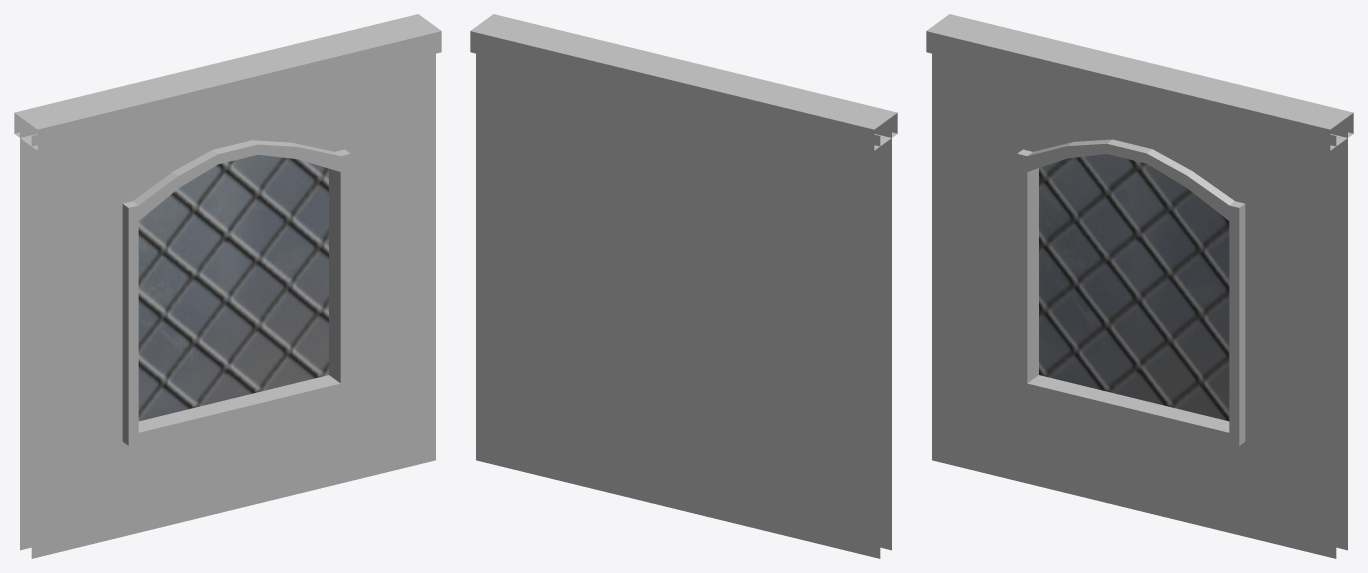
File: Wall_2_2_Up.fbx
The picture shows the model from 3 angles, left to right: view 1: azimuth 30°, elevation 25°; view 2: azimuth 150°, elevation 25°; view 3: azimuth 330°, elevation 25°; orthographic projection.
Parts seen in each view (by area): view 1: polySurface9836; view 2: polySurface9836; view 3: polySurface9836.
Boxes of the visible parts, <box> form: polySurface9836: <box>14,14,441,558</box>; polySurface9836: <box>470,14,897,558</box>; polySurface9836: <box>926,14,1353,558</box>.
Bounding box in the file's own units: 4 × 4.1 × 0.4.
